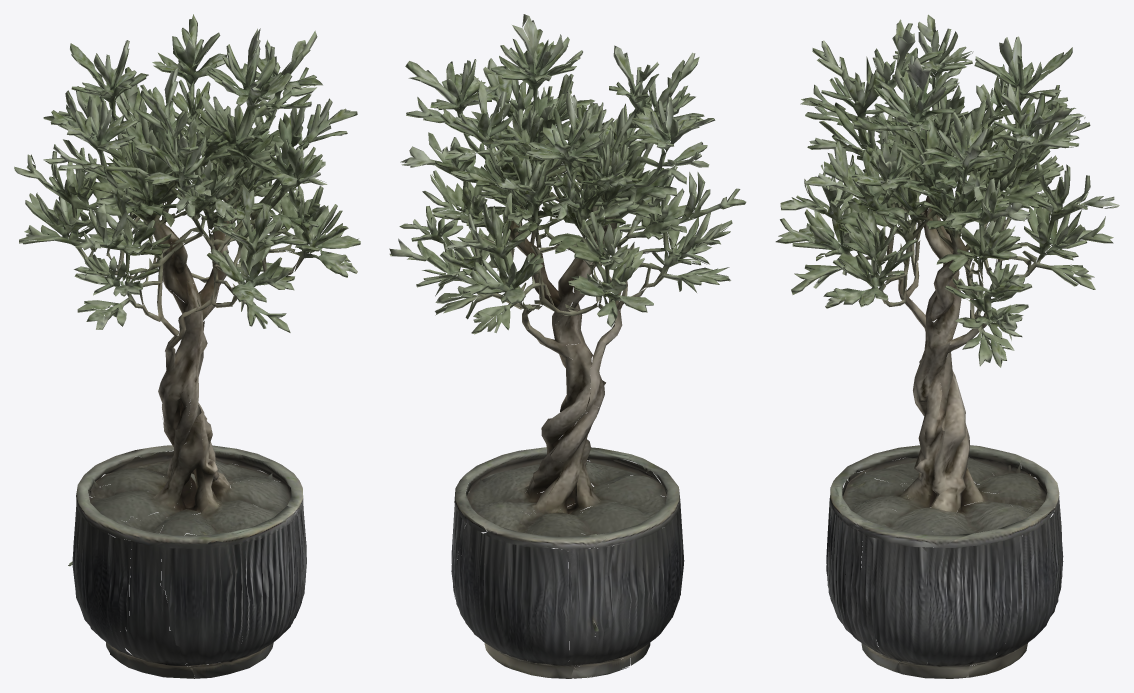
File: sculptural-plant.glb
3 renders of one model, left to right at view 1: azimuth 30°, elevation 25°; view 2: azimuth 150°, elevation 25°; view 3: azimuth 270°, elevation 25°, orthographic.
Parts seen in each view (by area): view 1: tripo_node_b22d078a-8e46-455e-a241-41c0e72f9a0f; view 2: tripo_node_b22d078a-8e46-455e-a241-41c0e72f9a0f; view 3: tripo_node_b22d078a-8e46-455e-a241-41c0e72f9a0f.
Part boxes in pixels (x1,y1,x2,y2): tripo_node_b22d078a-8e46-455e-a241-41c0e72f9a0f: [14, 14, 360, 678]; tripo_node_b22d078a-8e46-455e-a241-41c0e72f9a0f: [389, 14, 746, 678]; tripo_node_b22d078a-8e46-455e-a241-41c0e72f9a0f: [775, 14, 1119, 678].
Size of the model in its own units: 0.9038 by 1.8 by 0.9154.
Materials: 1 (1 with a texture image).
